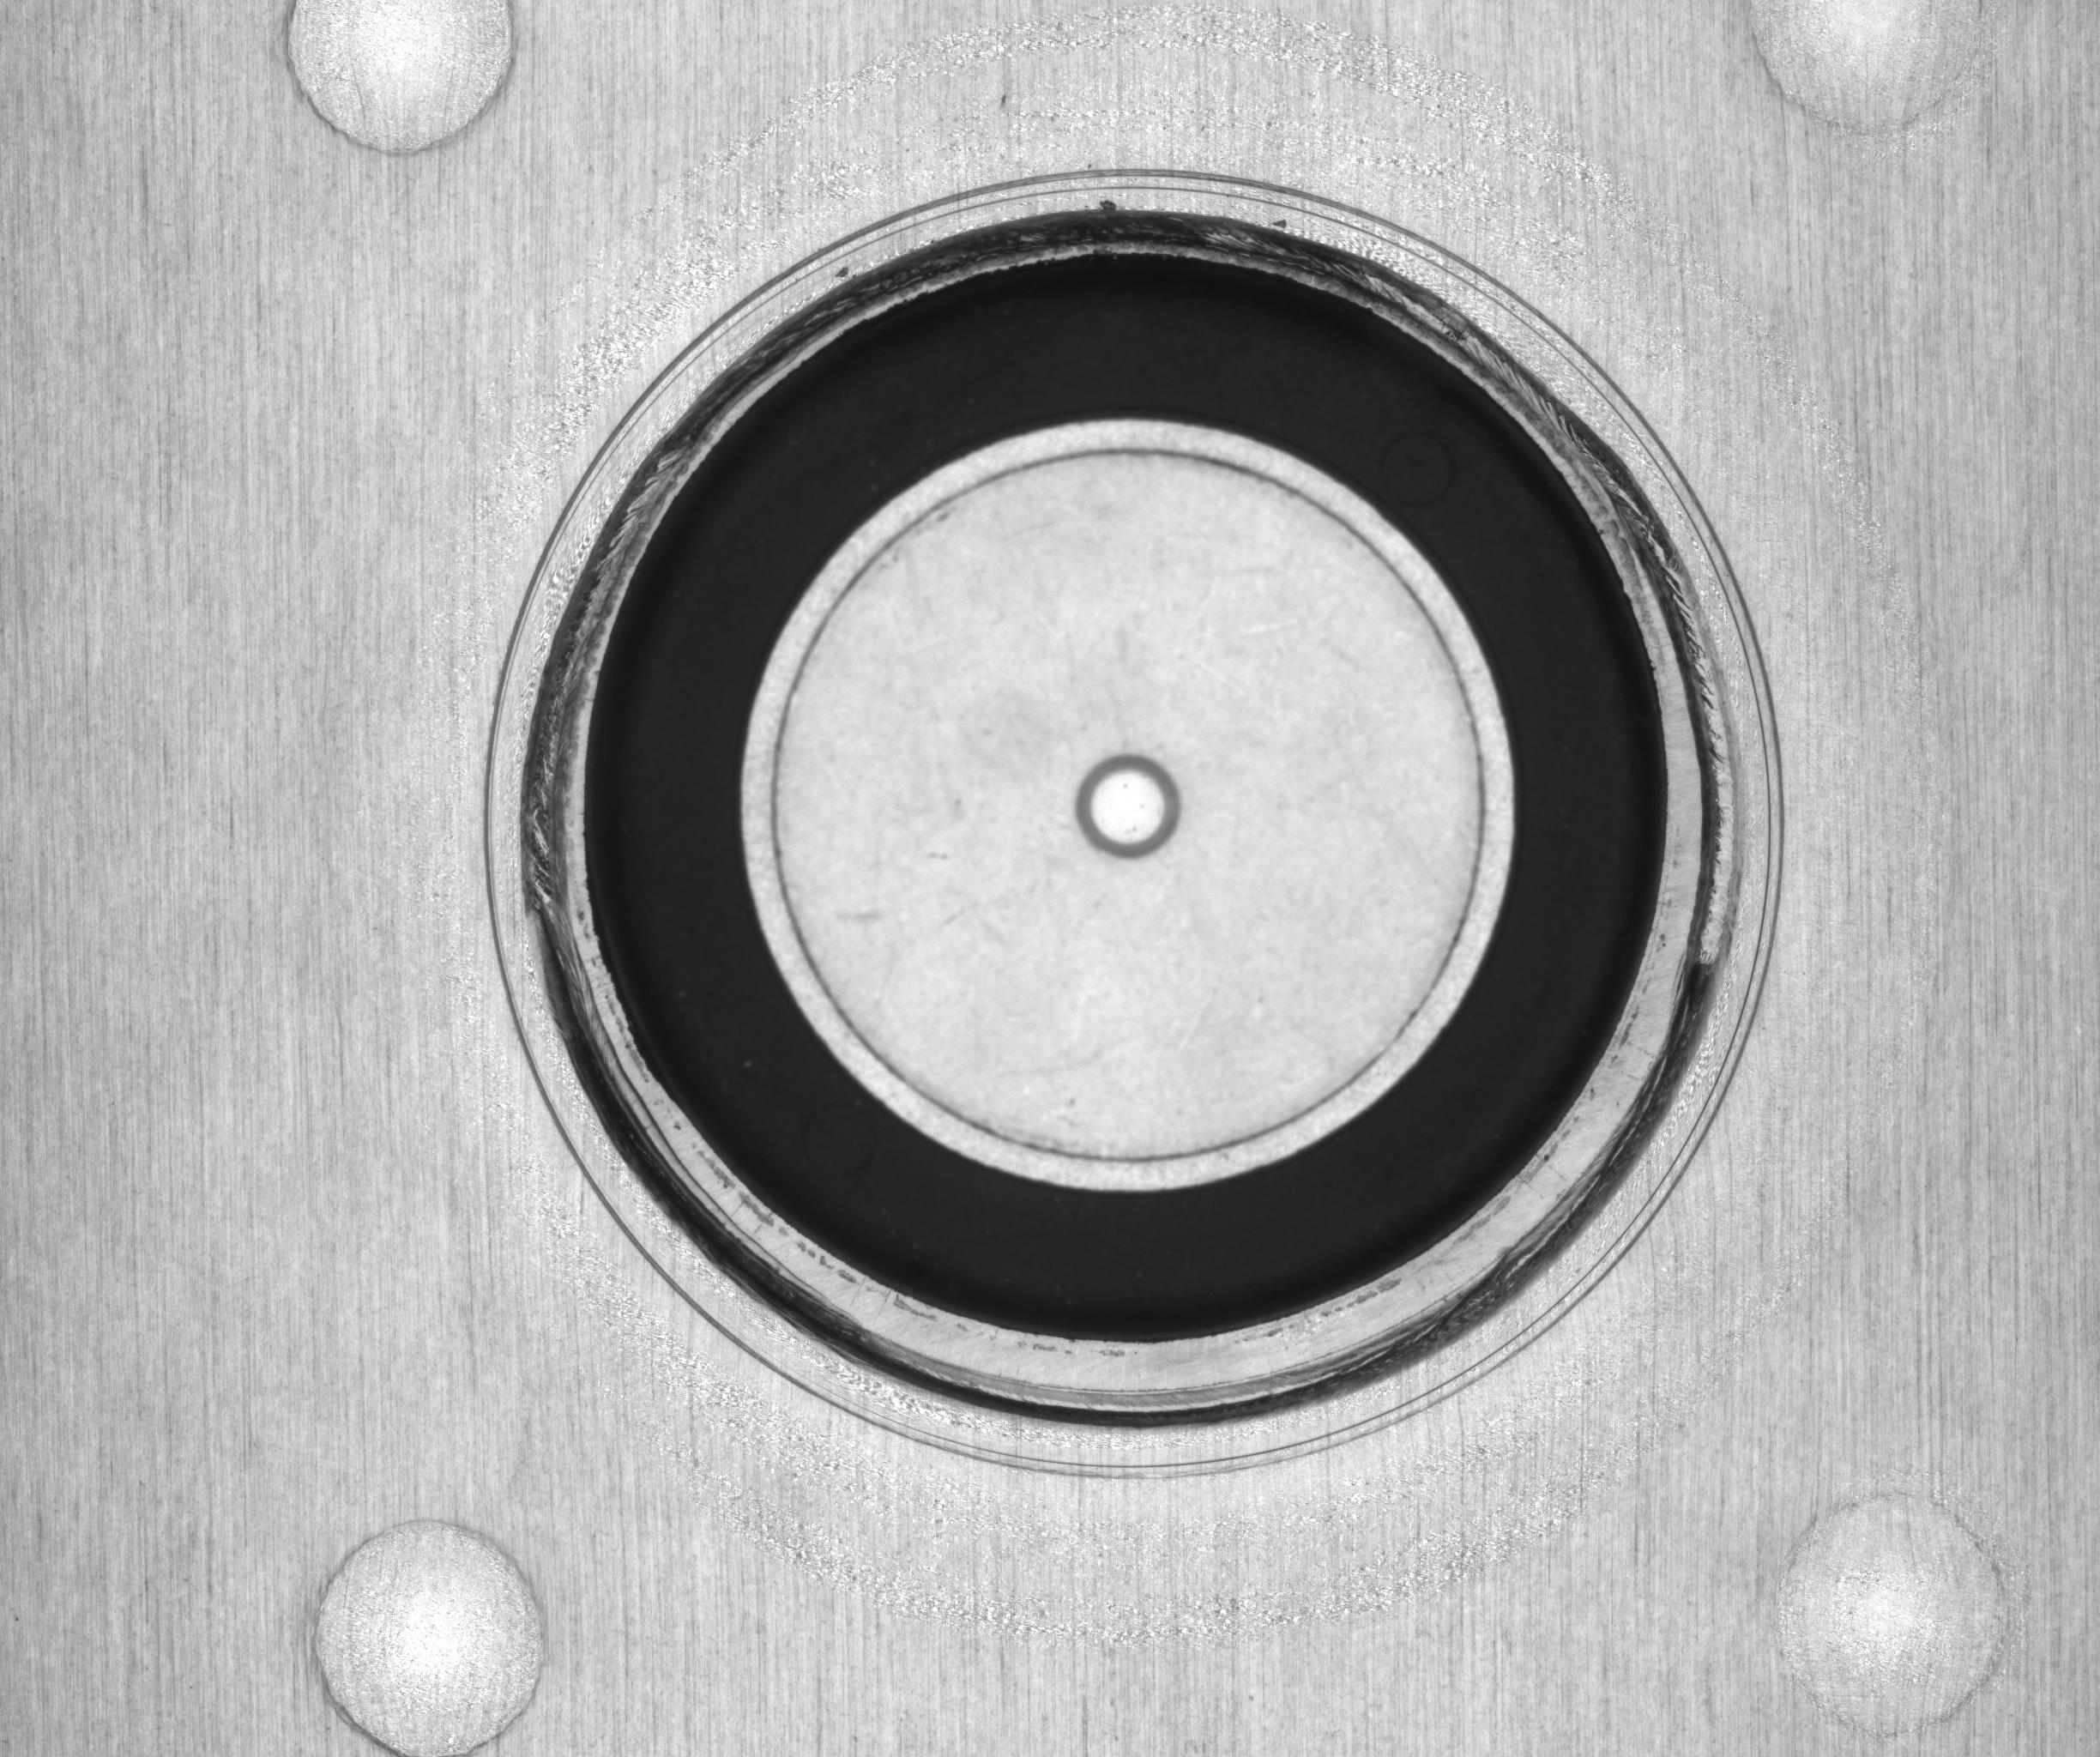shifting: (452, 155, 1803, 1492)
